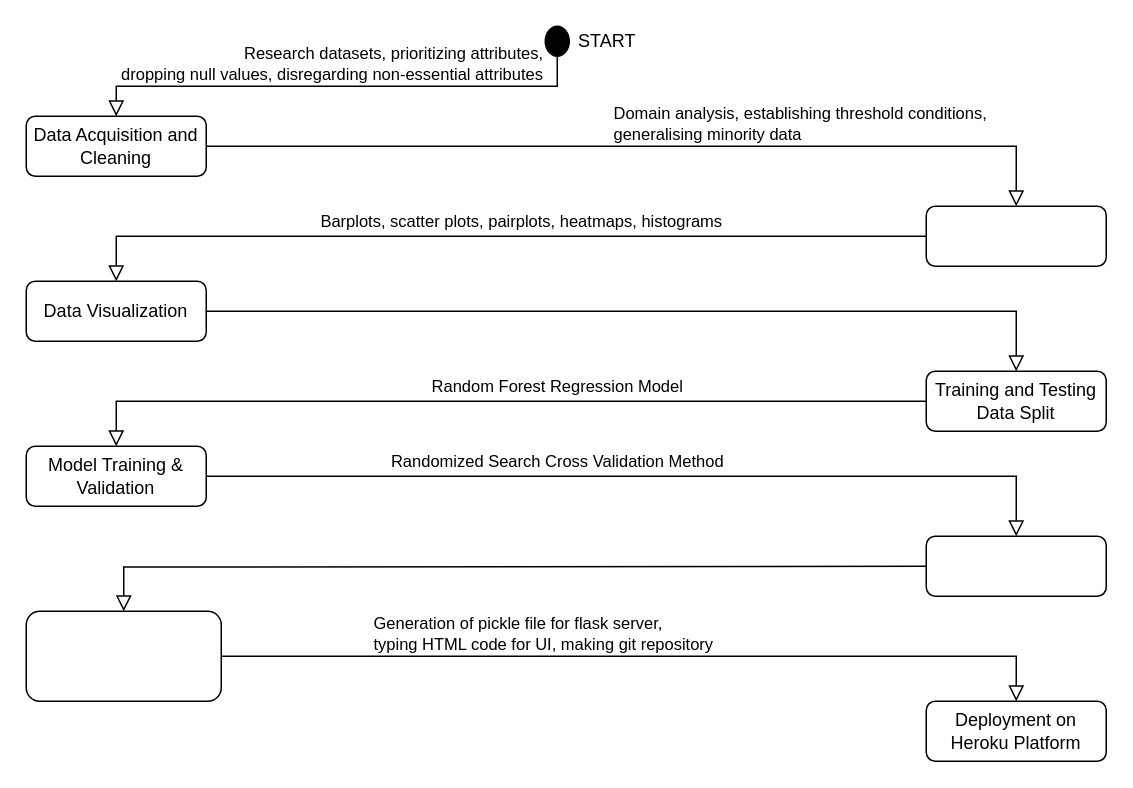
Some shapes in this 1133 by 788 pixel diagram are drawn without their labels. The centre of each missing label's shape, as x and y in pixels:
"Hyperparameter Tuning" goes at [1015,565].
"Outlier Removal" goes at [1015,235].
"Regression Metric Scores and Performance Evaluation" goes at [123,655].
